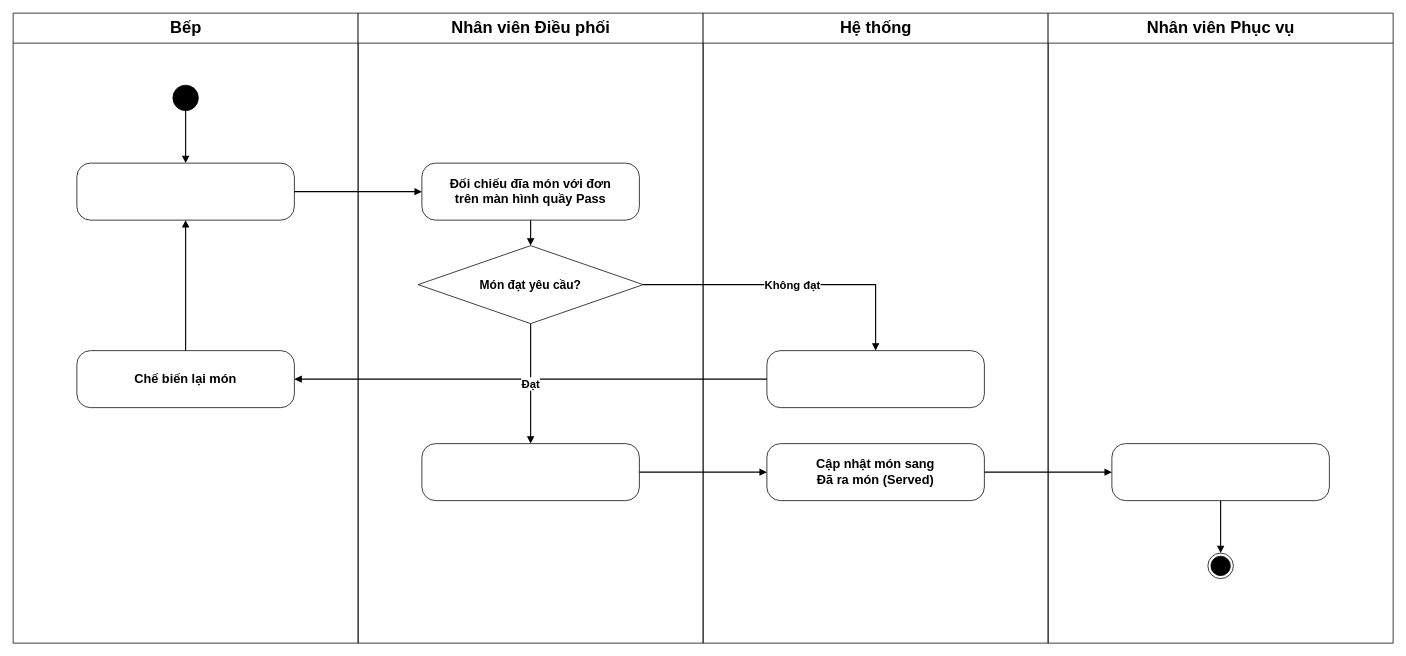
This 1406x656 diagram has some shape labels left out. The centre of each missing label's shape, as x and y in pixels:
Bấm Xác nhận đi món (Served): the point at 530,472
Gửi yêu cầu làm lại lên KDS Bếp: the point at 875,379
Mang món ra bàn phục vụ khách: the point at 1220,472
Đặt đĩa món hoàn chỉnh lên quầy Pass: the point at 185,191
